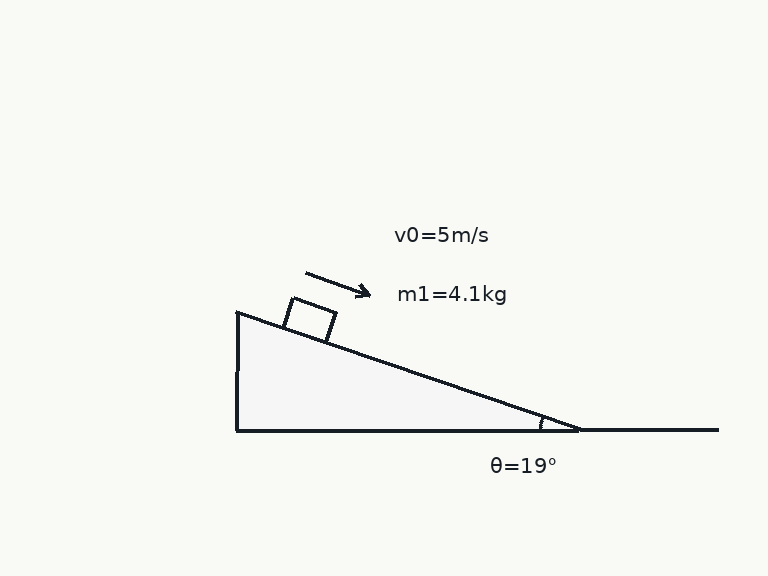block: (281, 295, 338, 344)
ramp: (235, 310, 582, 432)
